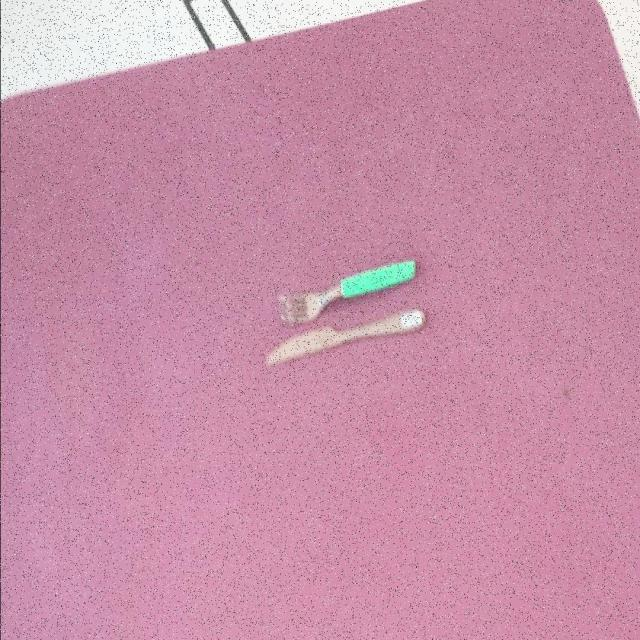Fork: (264, 309, 428, 368), (279, 261, 416, 327)
Knife: (264, 309, 428, 369)
